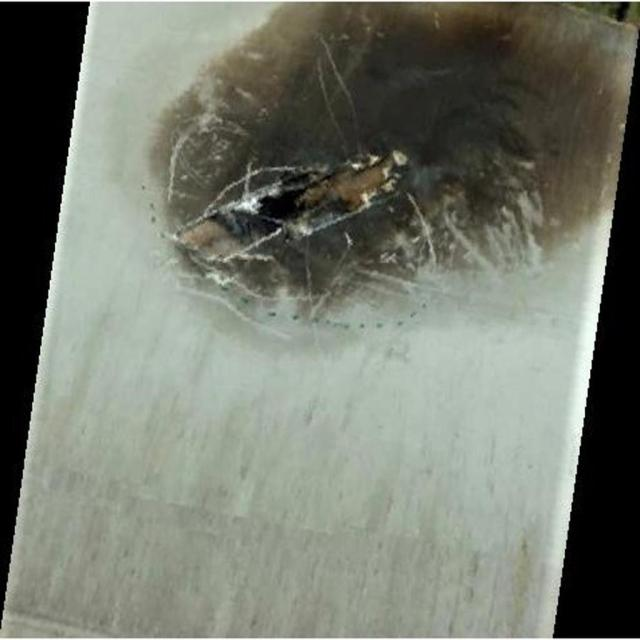crack: (173, 2, 611, 306)
